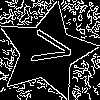V: (21, 26, 74, 69)
